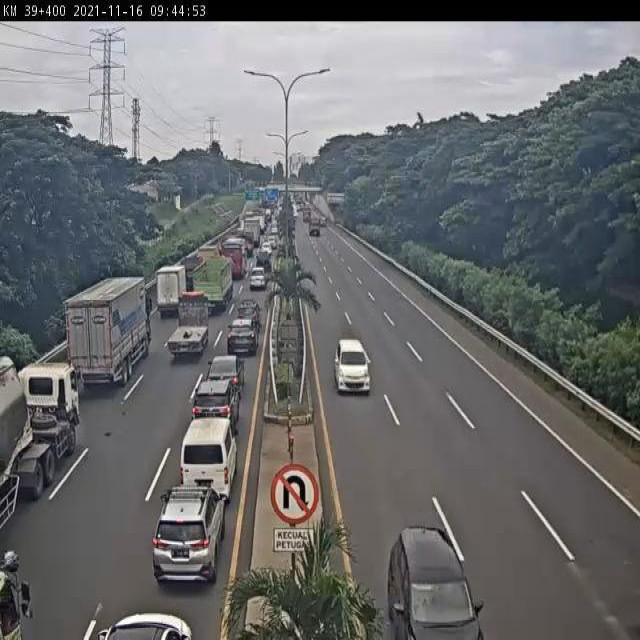big bus: (217, 234, 247, 278)
car: (383, 514, 484, 640), (152, 488, 224, 584), (188, 382, 236, 446), (334, 340, 373, 396), (205, 355, 242, 397), (223, 321, 255, 360), (235, 298, 262, 330), (245, 268, 266, 296)
small bus: (182, 419, 237, 500)
truck-l-: (68, 277, 153, 392), (192, 255, 234, 309)
truck-m-: (167, 297, 209, 359), (152, 264, 186, 317), (178, 253, 207, 296)
truck-xl-: (0, 353, 83, 538)
